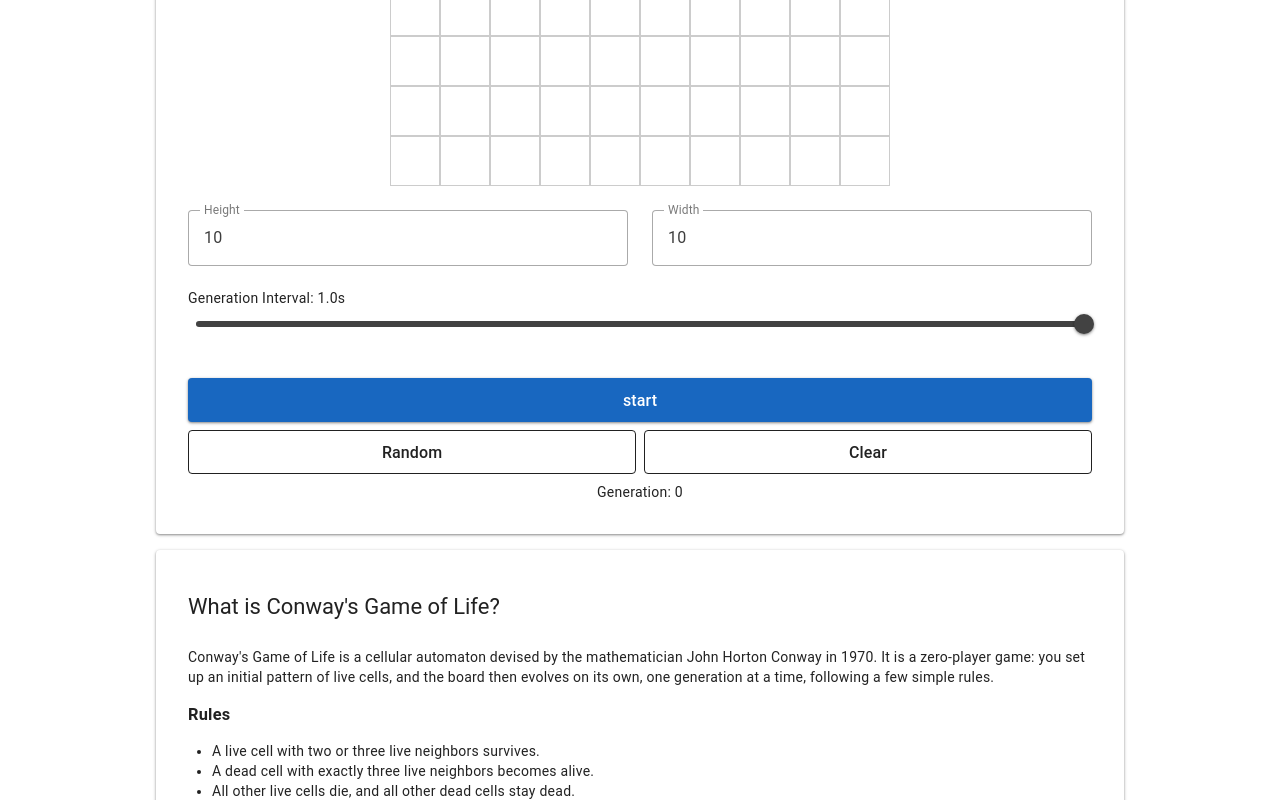
Test: Life Game E2E Tests › should start and stop simulation
(page scrolled)
// Click to start
Click the button "start" at (640, 401), box [188, 379, 1092, 423]
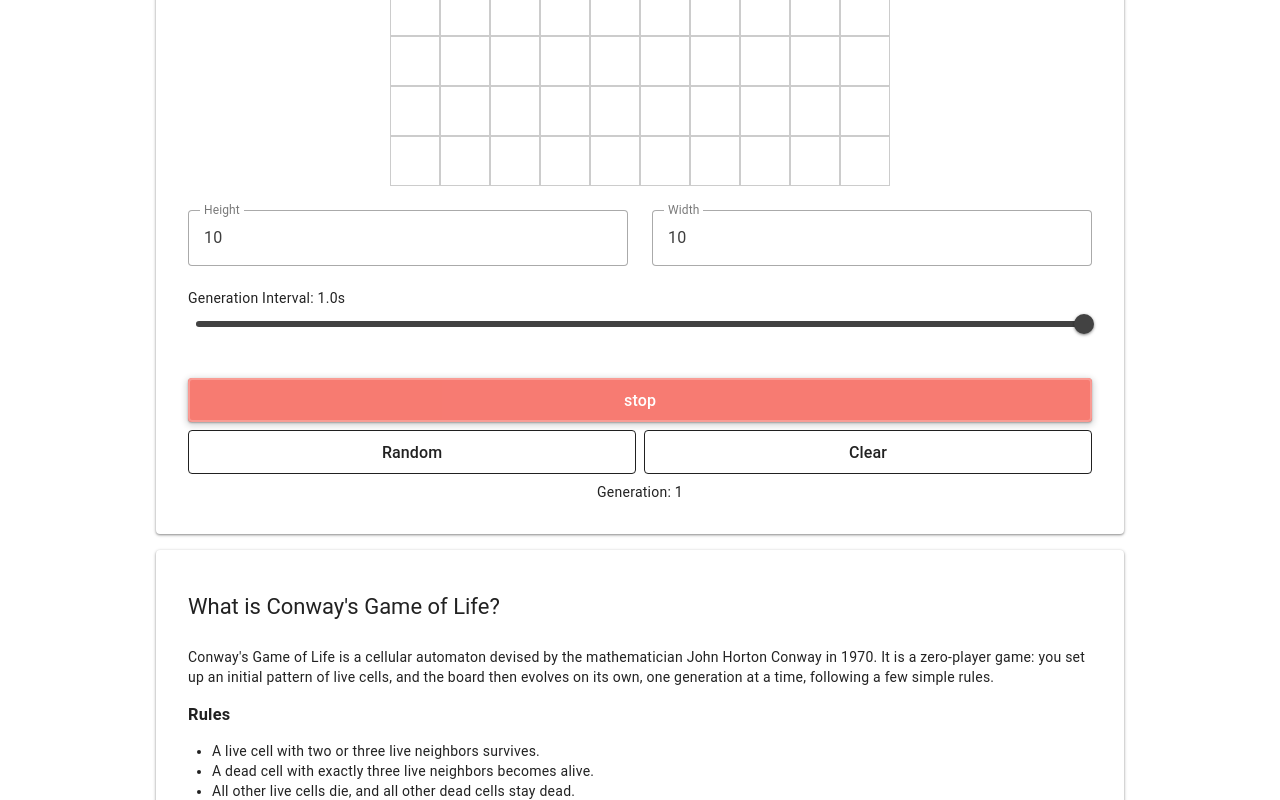
expect the button "stop" is shown: met
// Click to stop
Click the button "stop" at (640, 401), box [188, 379, 1092, 423]
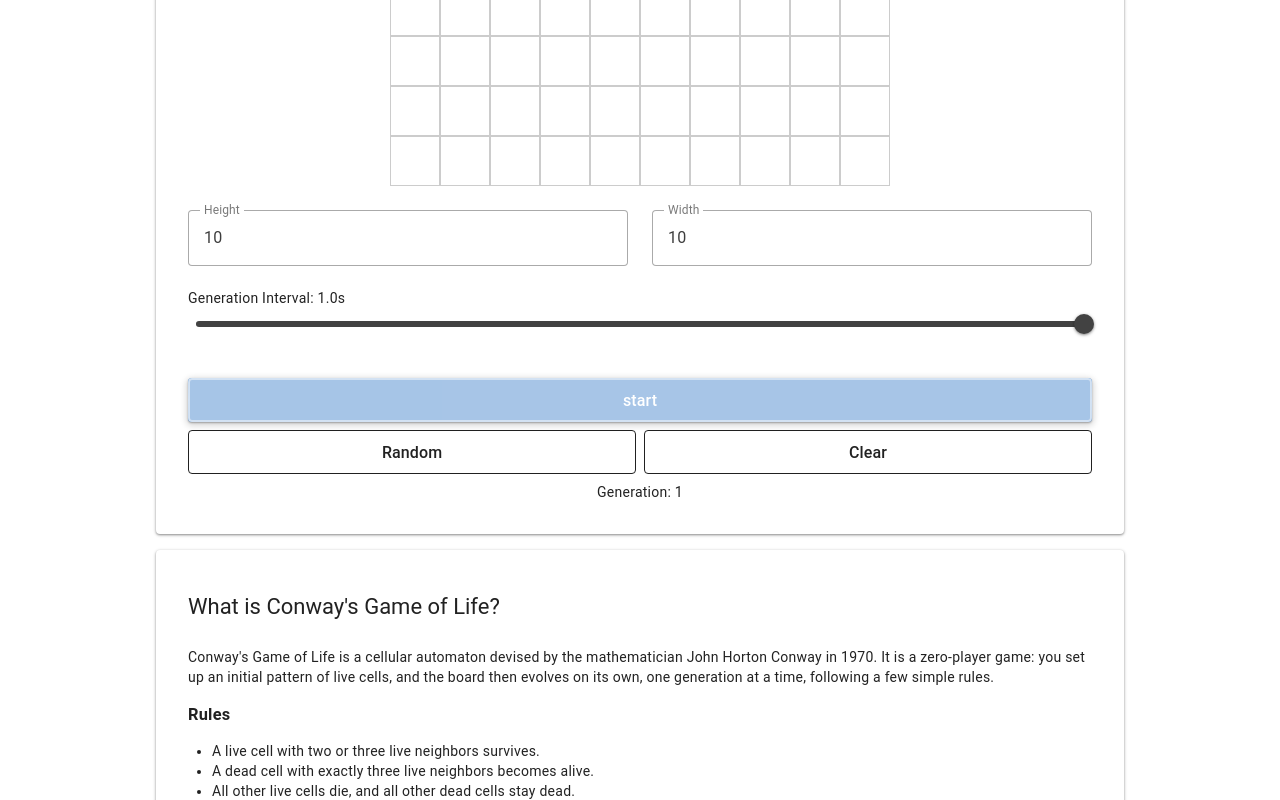
expect the button "start" is shown: met, box [188, 378, 1092, 422]
